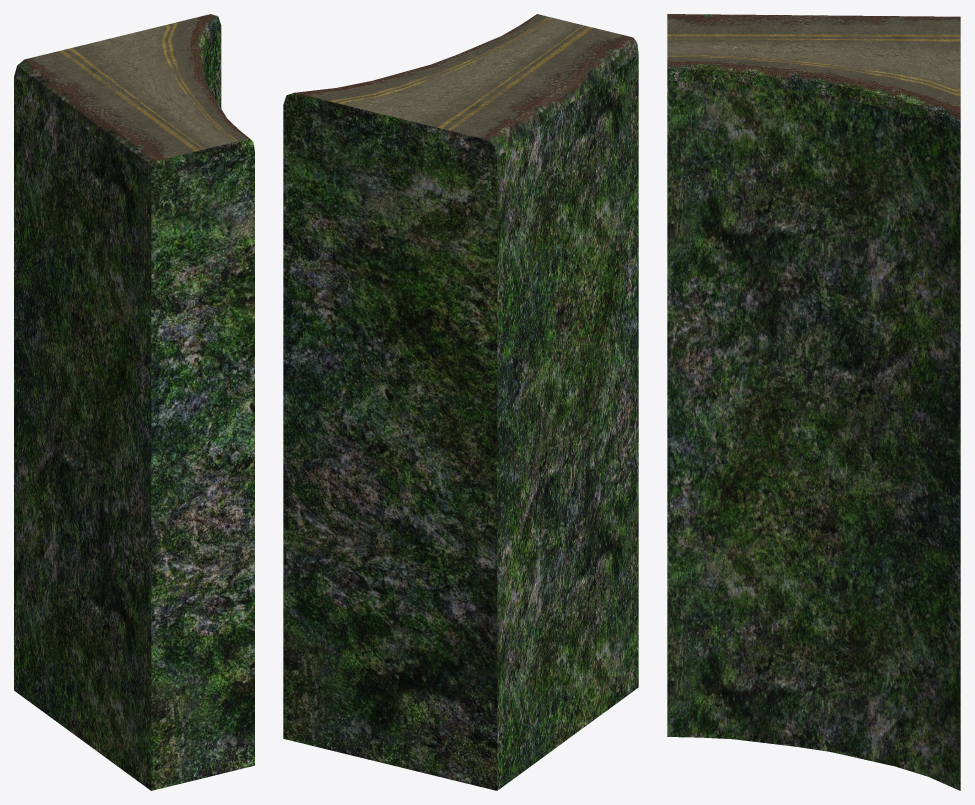
File: Getting Thin.fbx
3 renders of one model, left to right at view 1: azimuth 30°, elevation 25°; view 2: azimuth 150°, elevation 25°; view 3: azimuth 270°, elevation 25°, orthographic. The views are drawn at different scales.
Visible parts, largest first — view 1: Getting Thin; view 2: Getting Thin; view 3: Getting Thin.
Boxes of the visible parts, x1,y1,x2,y2 form: Getting Thin: [14, 14, 254, 790]; Getting Thin: [283, 14, 638, 790]; Getting Thin: [667, 14, 960, 790].
Size of the model in its own units: 68.3 by 198 by 78.25.
